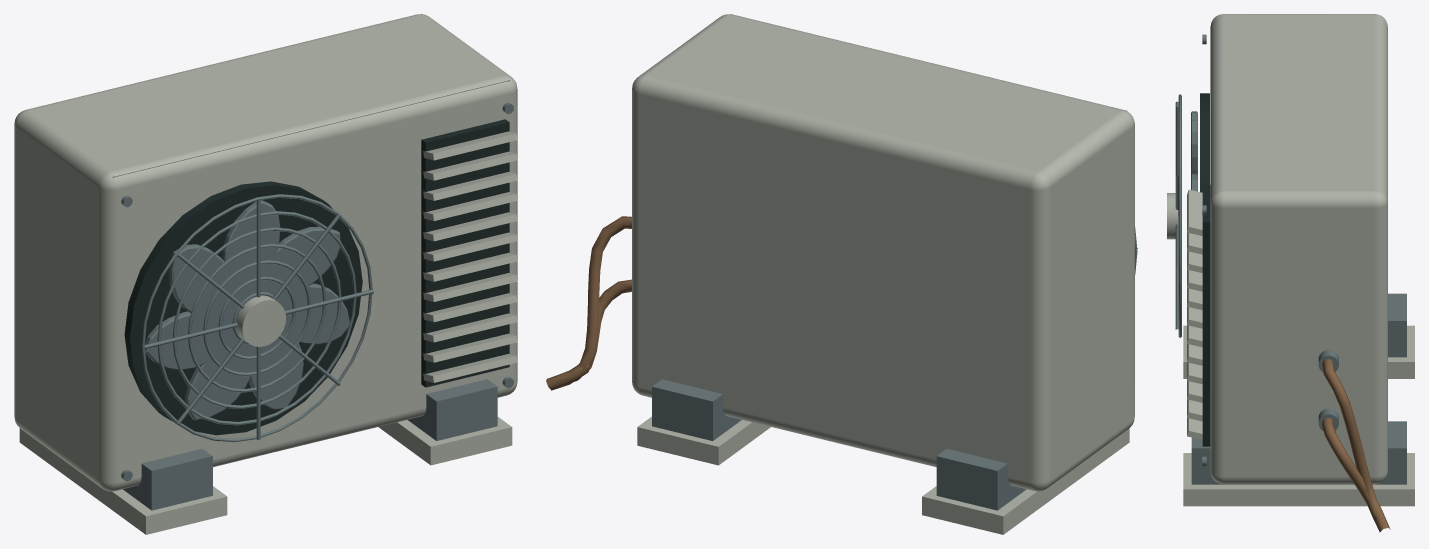
File: ac-condenser.glb
3 renders of one model, left to right at view 1: azimuth 30°, elevation 25°; view 2: azimuth 150°, elevation 25°; view 3: azimuth 270°, elevation 25°, orthographic. The views are drawn at different scales.
Parts seen in each view (by area): view 1: Original exterior AC condenser; view 2: Original exterior AC condenser; view 3: Original exterior AC condenser.
Part boxes in pixels (box(x1,y1,x2,y2)): Original exterior AC condenser: box(14, 14, 517, 534); Original exterior AC condenser: box(546, 14, 1137, 534); Original exterior AC condenser: box(1167, 14, 1414, 532).
Size of the model in its own units: 0.9817 by 0.6595 by 0.4605.
